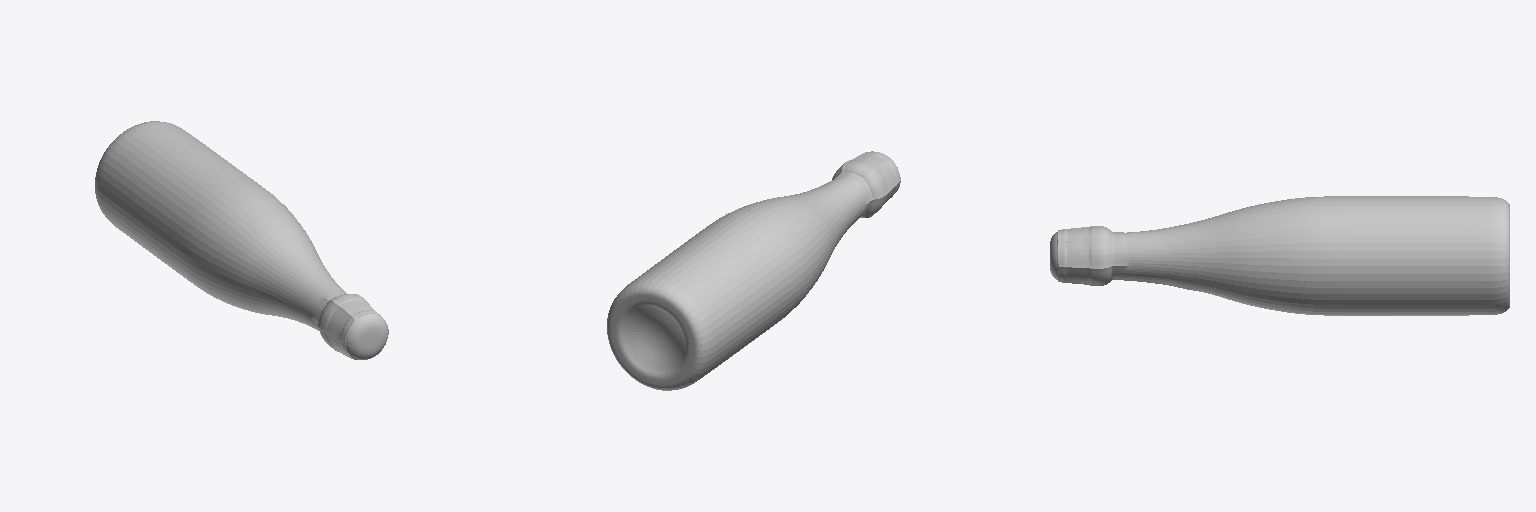
The model's file is bottle.obj.
The picture shows the model from 3 angles: view 1: azimuth 30°, elevation 25°; view 2: azimuth 150°, elevation 25°; view 3: azimuth 270°, elevation 25°; orthographic projection.
Visible parts, largest first — view 1: champagne; view 2: champagne; view 3: champagne.
Part boxes in pixels (bbox=[...]): champagne: bbox=[95, 121, 388, 359]; champagne: bbox=[607, 151, 900, 390]; champagne: bbox=[1050, 196, 1509, 315].
Size of the model in its own units: 6.93 by 6.93 by 26.73.